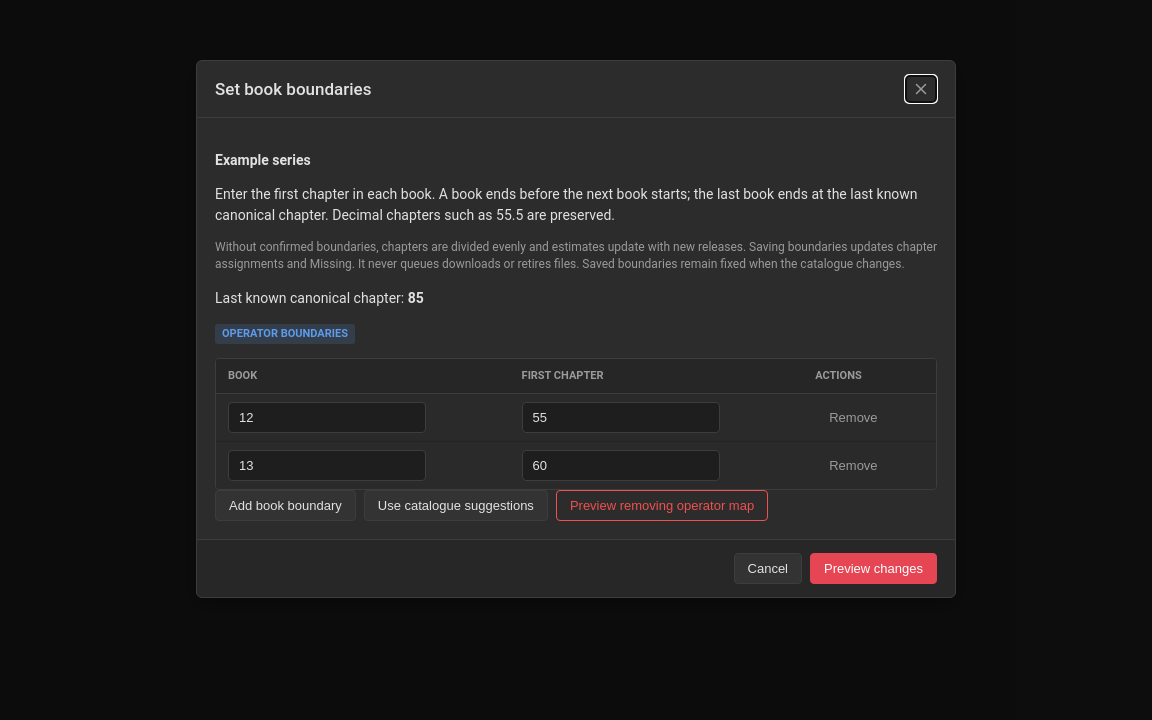
validation and preview › rejects invalid First chapter in row 2 = 55.0 before sending a preview
This screenshot has width=1152, height=720.
Replace the text in the field named "First chapter in row 2" with "55.0" at [621, 465], box [522,450,720,481]
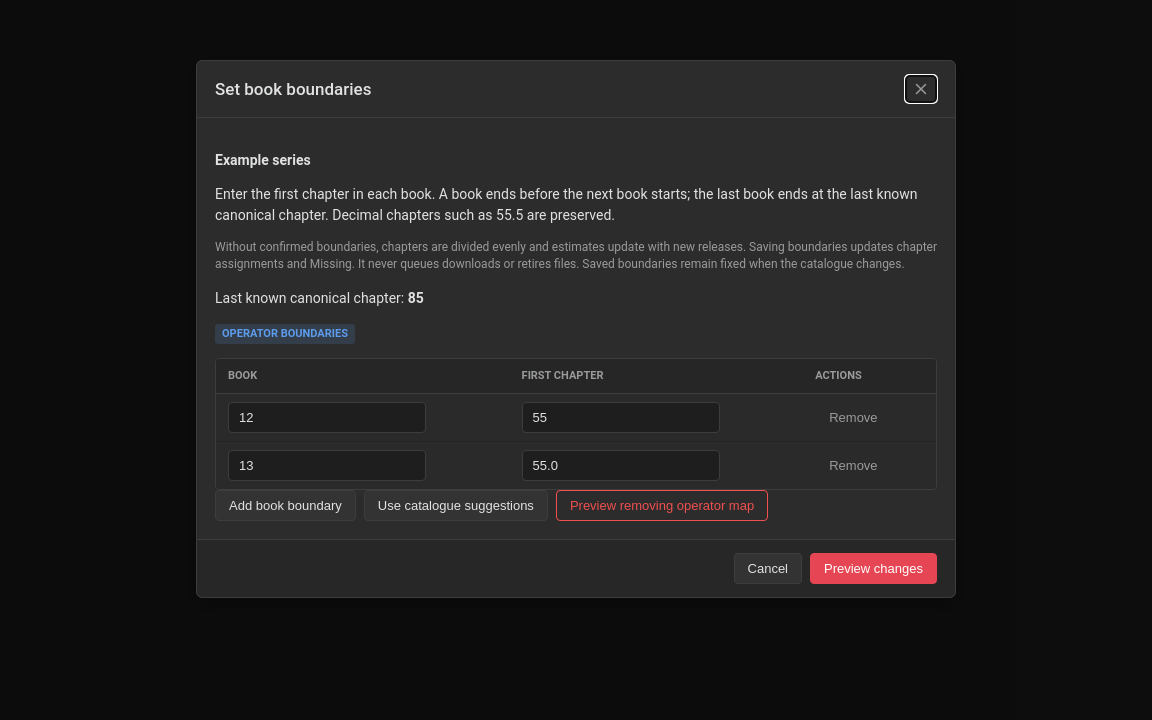
Click the button "Preview changes" at [874, 568], box [810,553,937,584]
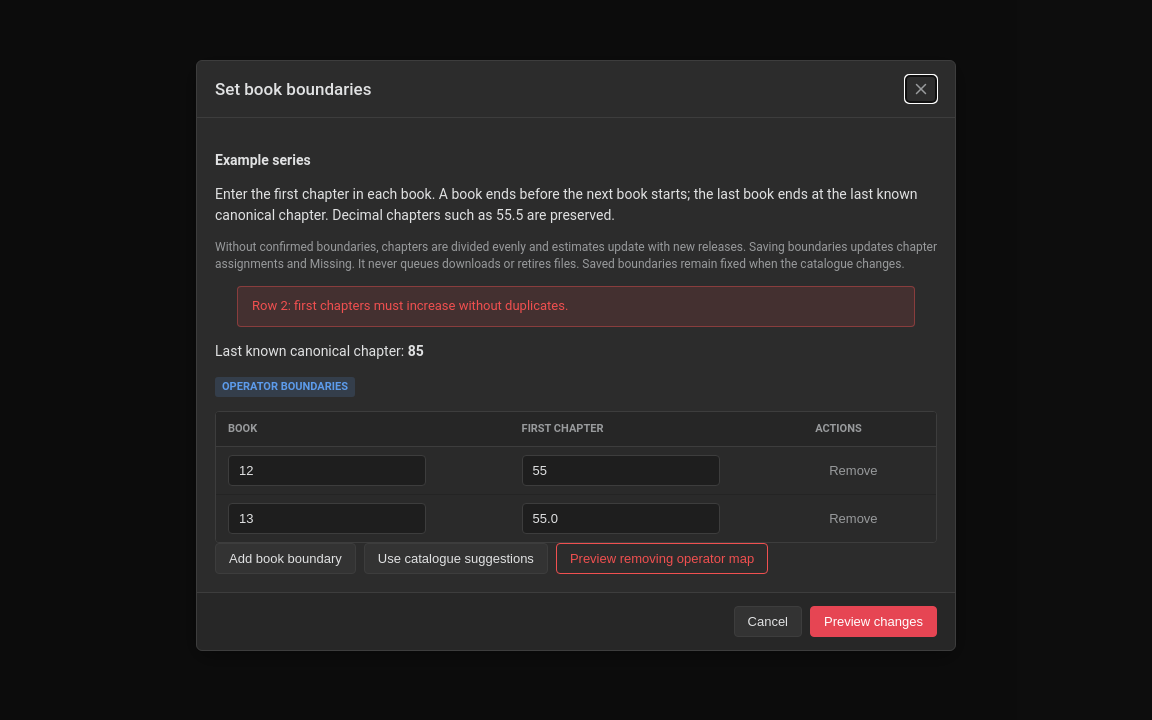
Expected: the message shows "first chapters must increase", [252,298,568,313]
